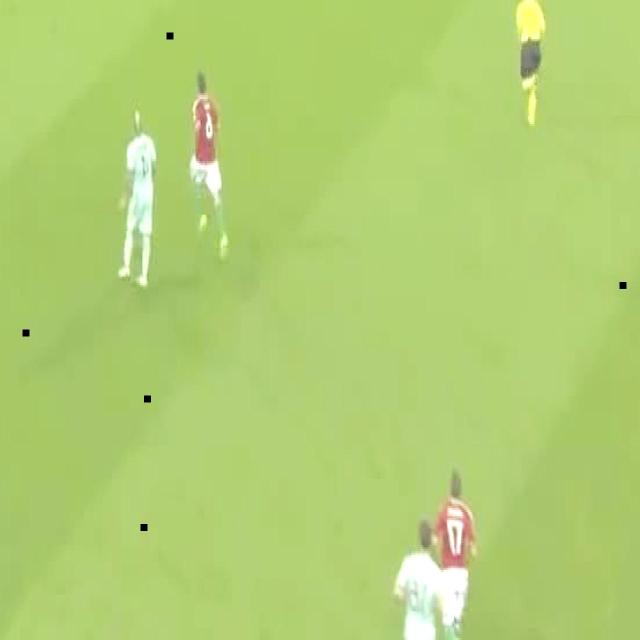player-white: (433, 468, 476, 640), (118, 111, 158, 292), (190, 71, 229, 256), (394, 520, 448, 640), (515, 0, 545, 128)
